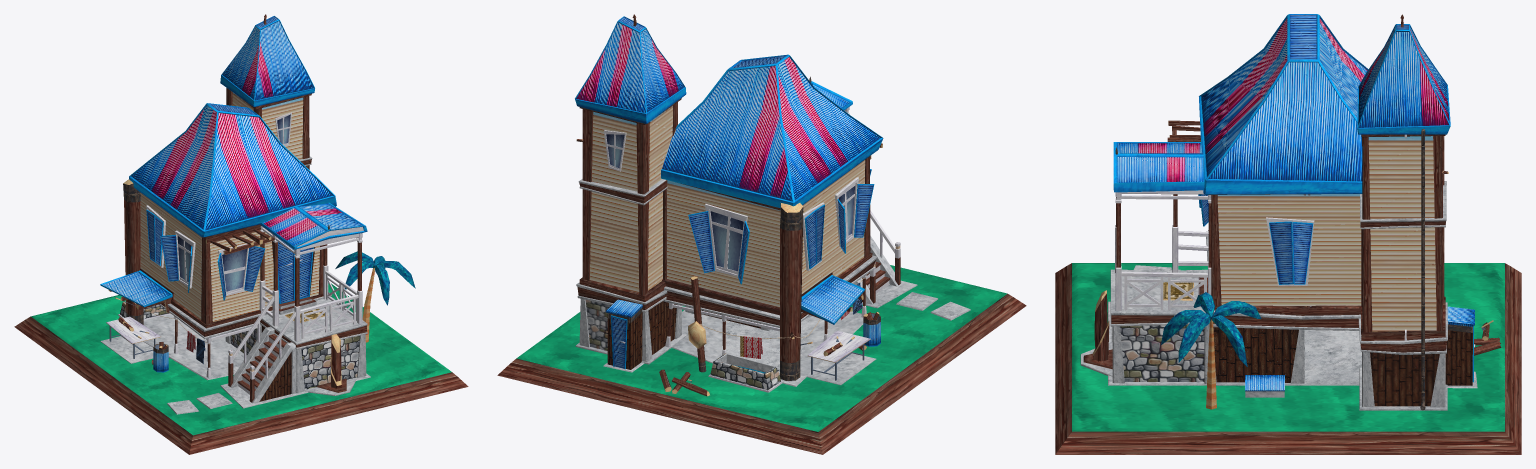
The model's file is the_tiki_hut_cb-tp1.glb.
3 views of the same model, side by side, from view 1: azimuth 30°, elevation 25°; view 2: azimuth 150°, elevation 25°; view 3: azimuth 270°, elevation 25° (orthographic). The views are drawn at different scales.
Visible parts, largest first — view 1: polySurface2971; view 2: polySurface2971; view 3: polySurface2971.
Part boxes in pixels (box(x1,y1,x2,y2)): polySurface2971: box(14, 14, 468, 454); polySurface2971: box(497, 14, 1026, 454); polySurface2971: box(1055, 14, 1521, 454).
Size of the model in its own units: 887 by 895 by 961.
Materials: 1 (1 with a texture image).
